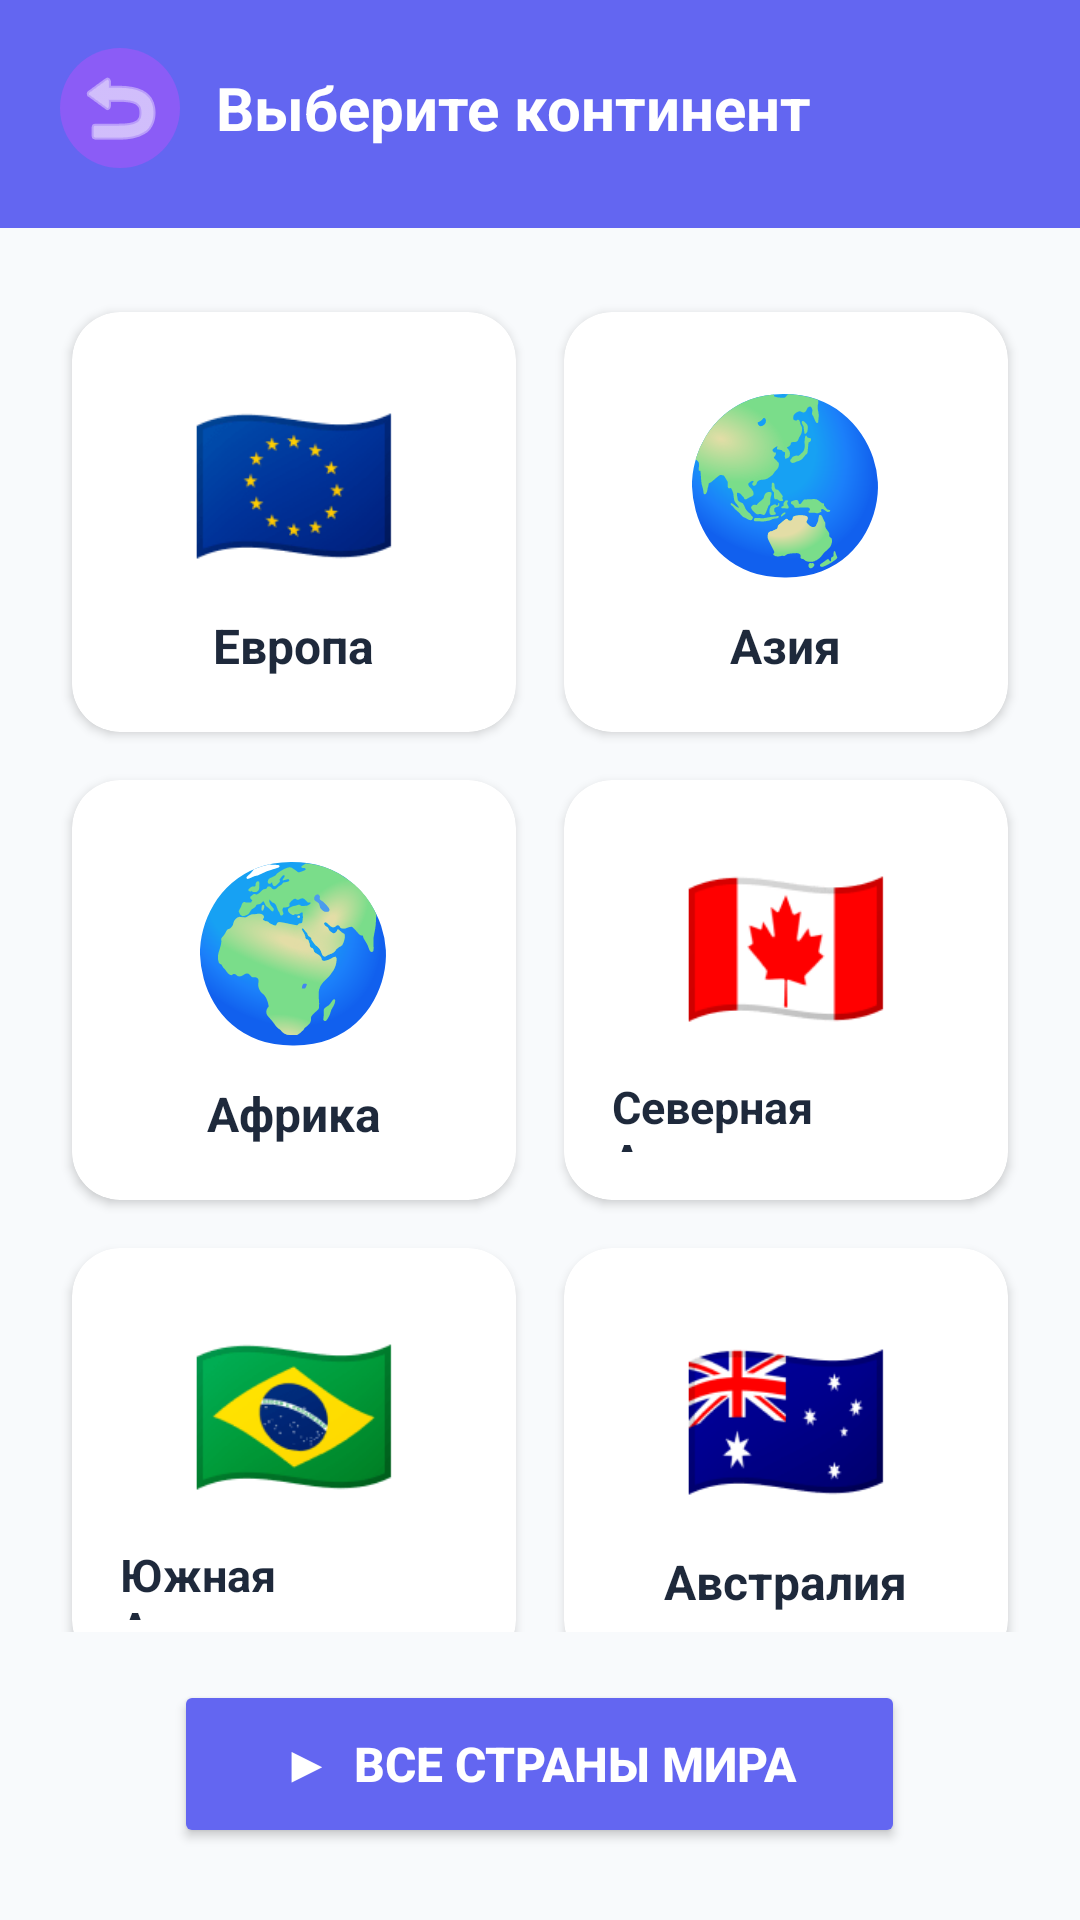

Icon click points for this 1080x1920 phone screenshot, format [x,y]:
Назад: [120,108]
